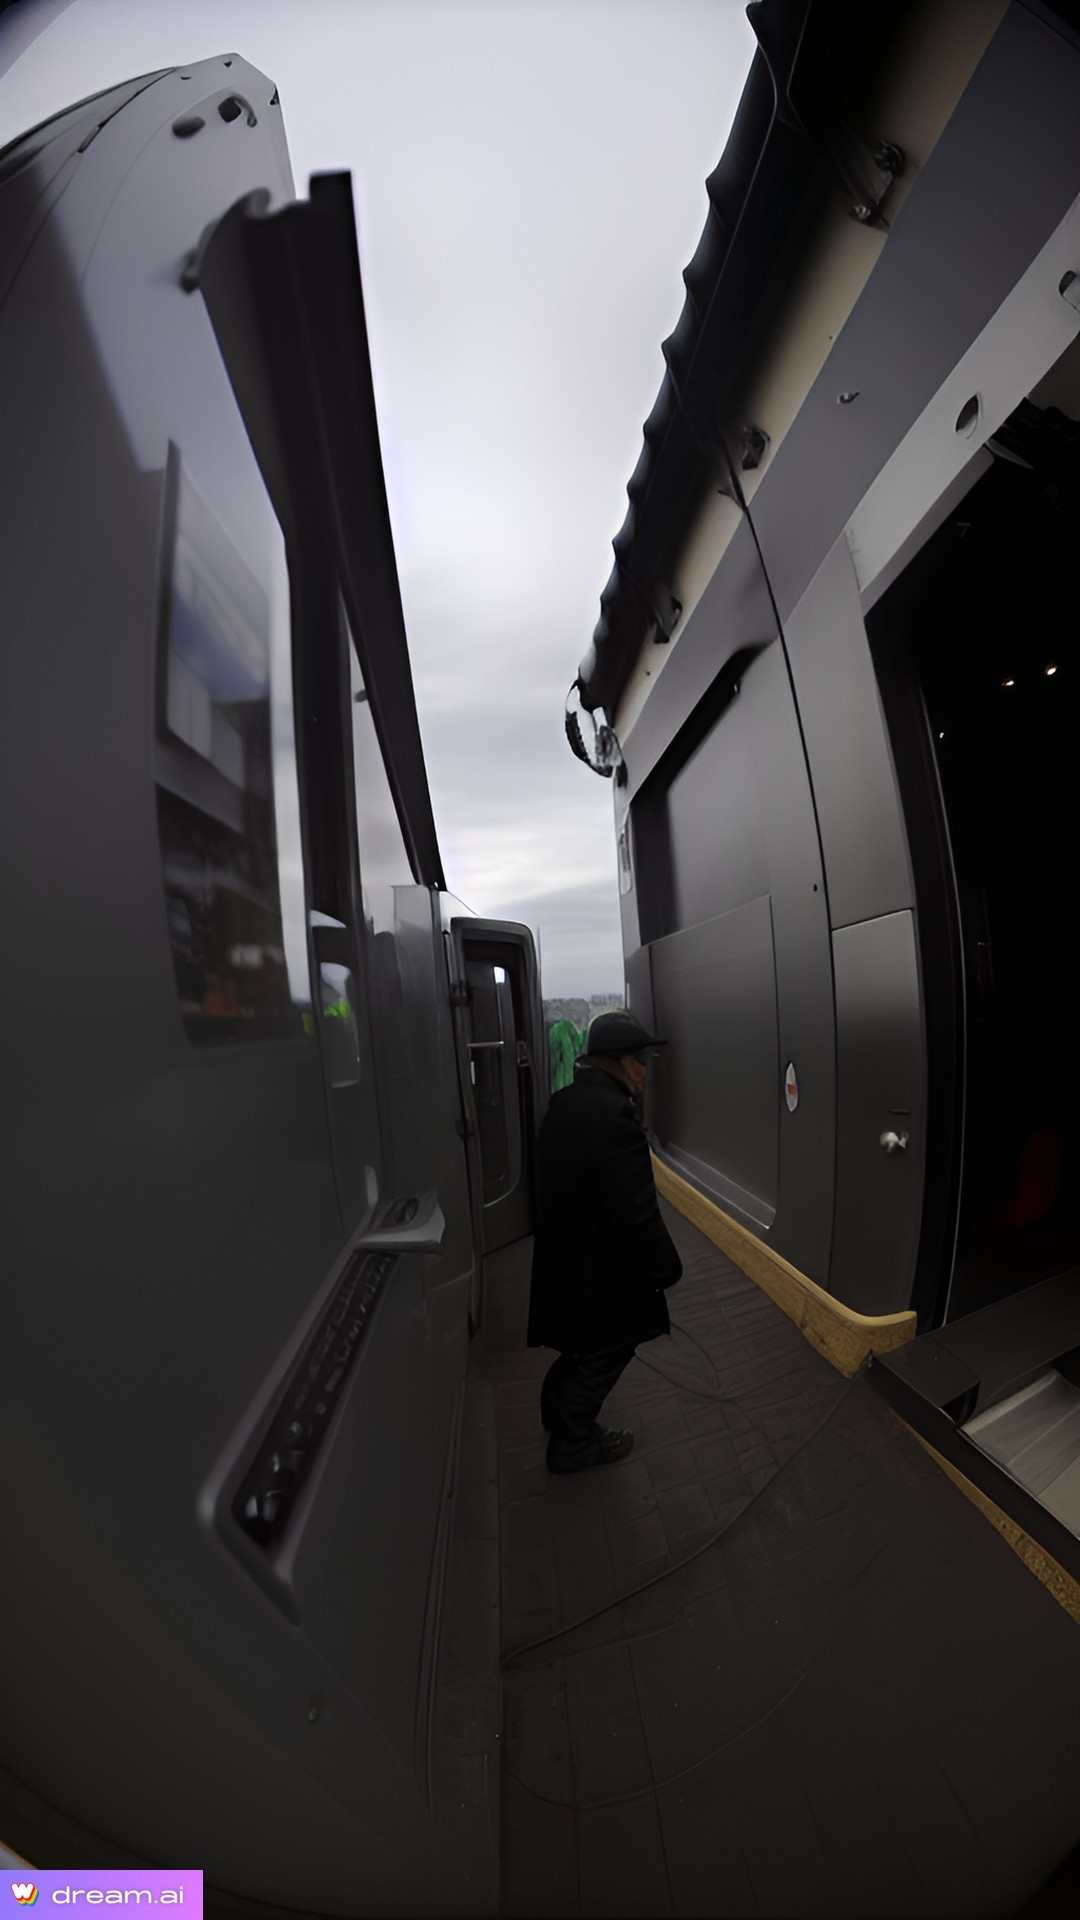door_back: (423, 895, 567, 1274)
